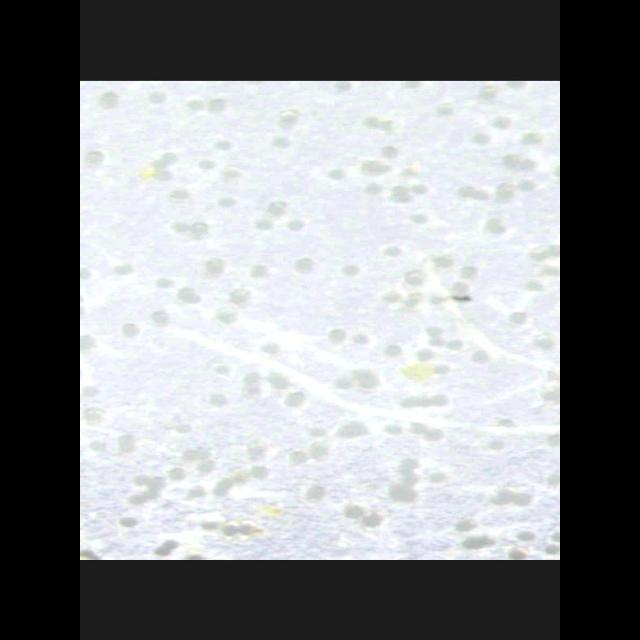Fibre: (172, 246, 560, 448)
